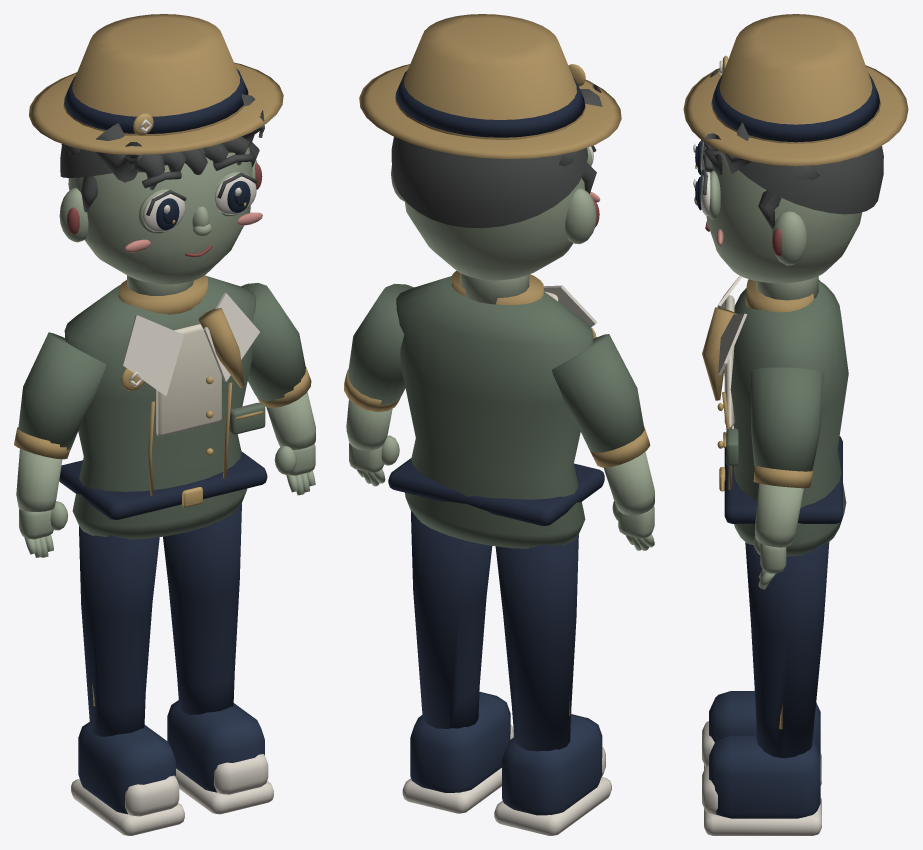
Rendered from grave_character_zombie.glb.
3 renders of one model, left to right at view 1: azimuth 30°, elevation 25°; view 2: azimuth 150°, elevation 25°; view 3: azimuth 270°, elevation 25°, orthographic. The views are drawn at different scales.
Visible parts, largest first — view 1: figure.012; view 2: figure.012; view 3: figure.012.
Part boxes in pixels (left/top/right/bottom): figure.012: left=14, top=14, right=315, bottom=835; figure.012: left=344, top=14, right=654, bottom=835; figure.012: left=683, top=14, right=908, bottom=835.
Size of the model in its own units: 1.02 by 2.5 by 0.6679.
